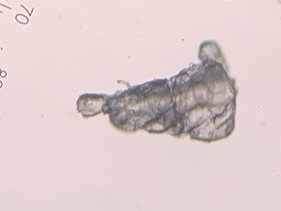microplastic: (76, 39, 238, 144)
